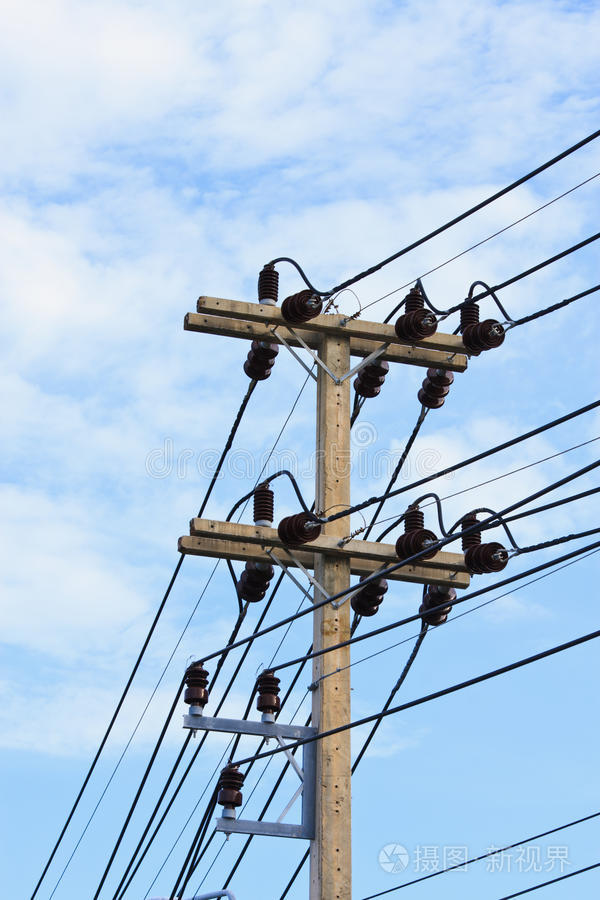insulator: (415, 368, 454, 409), (391, 528, 434, 564), (394, 309, 439, 342), (463, 541, 505, 576), (351, 573, 385, 616), (280, 510, 318, 548), (419, 588, 455, 627), (244, 341, 278, 382), (353, 358, 389, 396), (235, 561, 269, 600), (462, 321, 502, 349), (280, 291, 315, 321)
